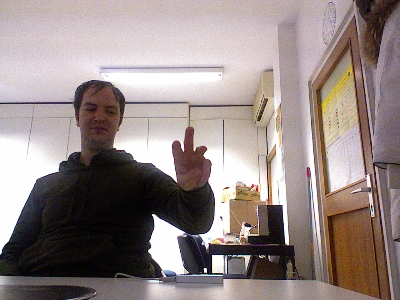三分: (171, 125, 212, 192)
